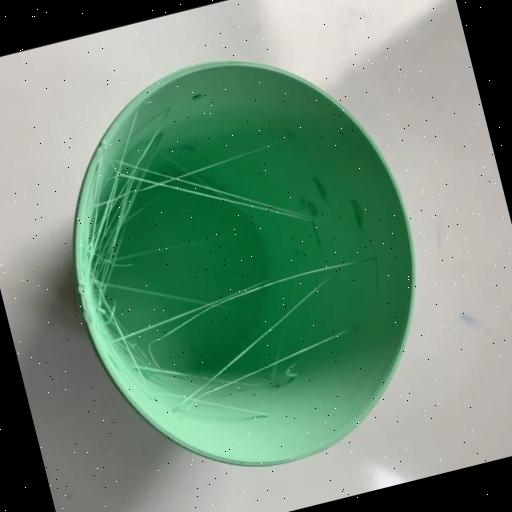stringing: (107, 251, 354, 346), (182, 274, 331, 404), (77, 129, 167, 302), (111, 151, 321, 223)
